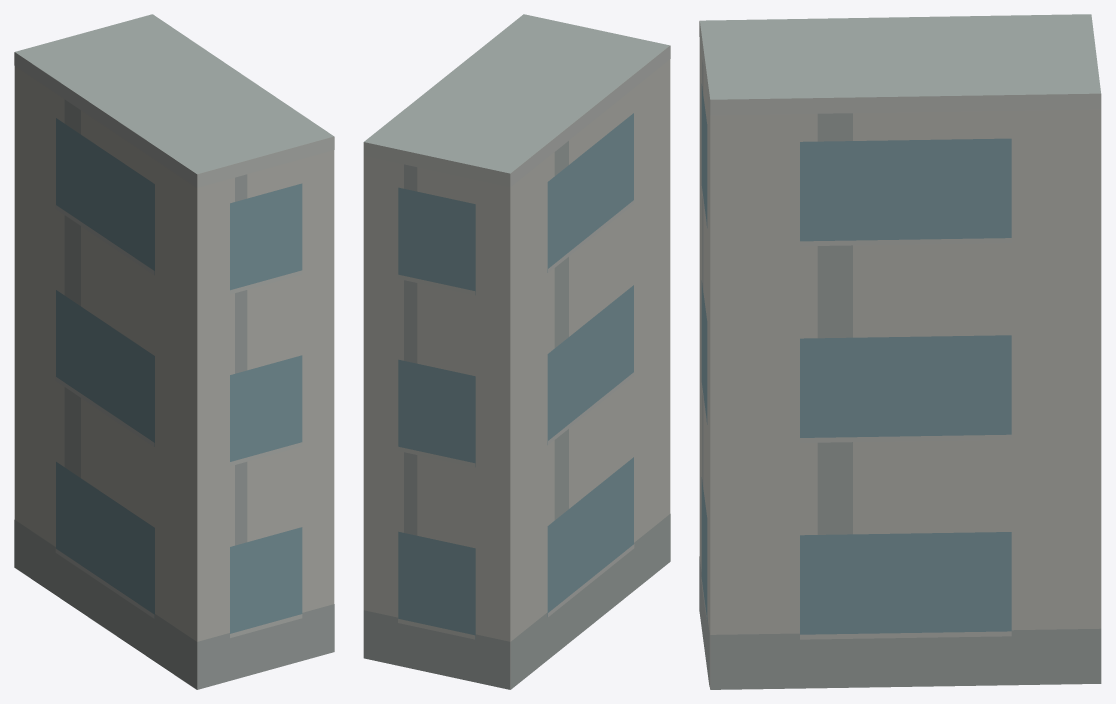
The model's file is survey-upis-32961185.glb.
3 renders of one model, left to right at view 1: azimuth 30°, elevation 25°; view 2: azimuth 150°, elevation 25°; view 3: azimuth 270°, elevation 25°, orthographic. The views are drawn at different scales.
Parts seen in each view (by area): view 1: survey-upis-32961185.tmp; view 2: survey-upis-32961185.tmp; view 3: survey-upis-32961185.tmp.
Part boxes in pixels (x1,y1,x2,y2): survey-upis-32961185.tmp: (14,14,334,689); survey-upis-32961185.tmp: (363,14,670,689); survey-upis-32961185.tmp: (699,14,1101,689).
Size of the model in its own units: 2.86 by 9.15 by 5.65.
